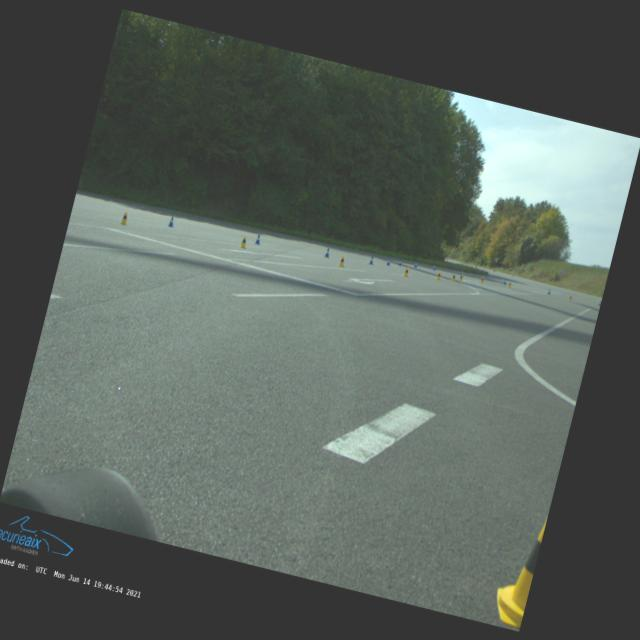blue_cone: (254, 233, 262, 244), (168, 215, 175, 227), (324, 247, 331, 257), (368, 256, 374, 264), (386, 258, 390, 265), (502, 279, 507, 284), (546, 288, 550, 294), (432, 264, 436, 270), (414, 262, 418, 268), (398, 259, 402, 265), (598, 300, 601, 306), (460, 270, 462, 274)
yellow_cone: (488, 510, 546, 628), (120, 210, 130, 224), (239, 236, 248, 248), (338, 255, 346, 267), (402, 266, 410, 277), (436, 271, 442, 280), (458, 274, 464, 281), (479, 276, 484, 284), (451, 273, 456, 281), (568, 294, 572, 300), (508, 282, 512, 286)
